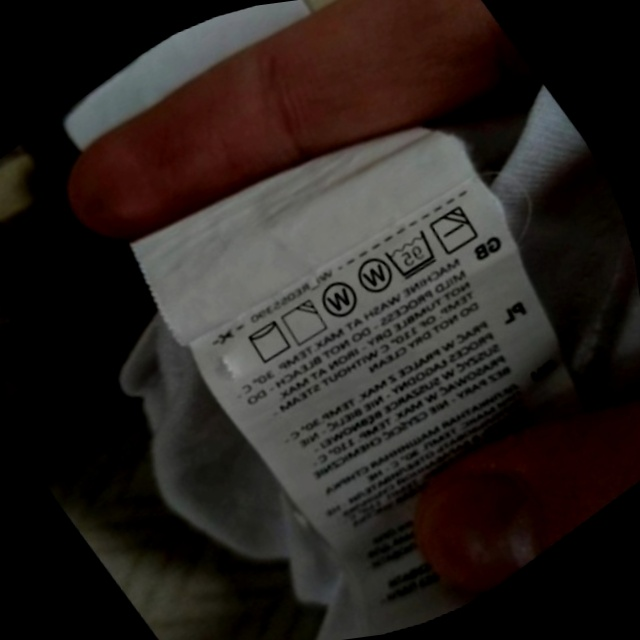95C: (370, 216, 453, 294)
dry_flat_in_shade: (416, 191, 492, 268)
line_dry: (232, 306, 304, 378)
shade_dry: (268, 286, 340, 359)
wet_clean: (338, 240, 408, 311), (305, 265, 374, 336)
